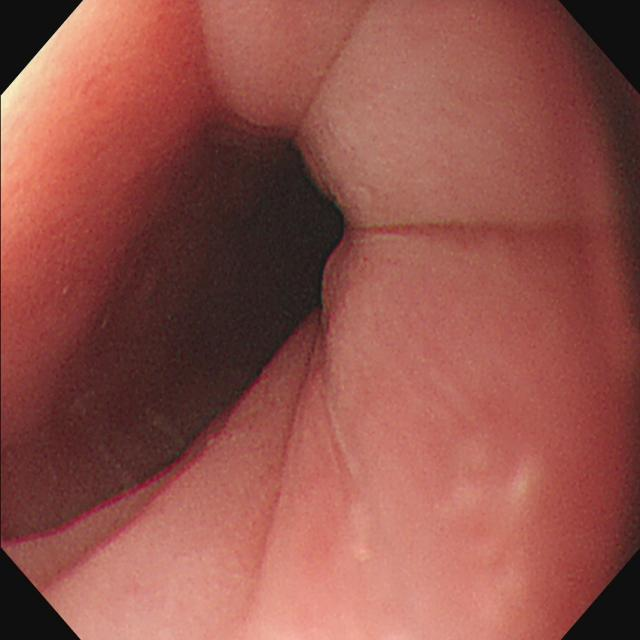E: (122, 100, 362, 380)
